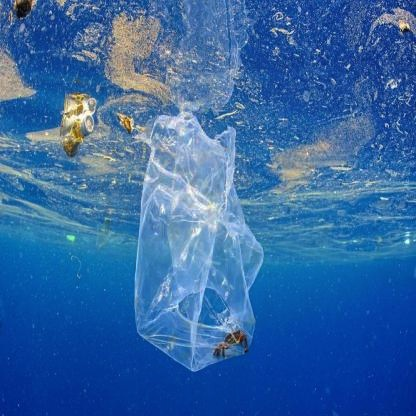pbag: (133, 112, 264, 372)
plastic: (60, 111, 94, 157)
